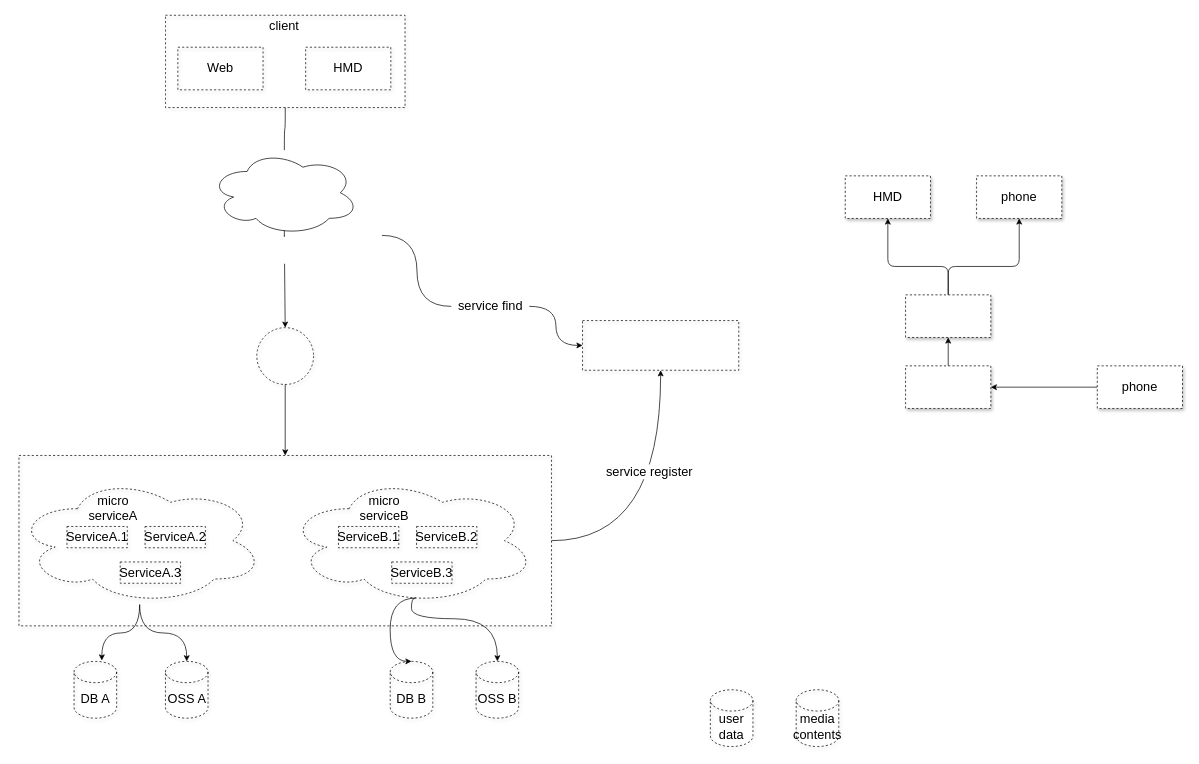
Image size: 1199x764. Some labels were removed from this diagram. The shapes that lost their labels are listed below. From the top down, each one's centre as x and y in pixels, then its label:
the point at 284,192: 互联网
the point at 948,316: Check
the point at 285,356: SLB
the point at 661,346: service monitor center
the point at 948,387: Contents
